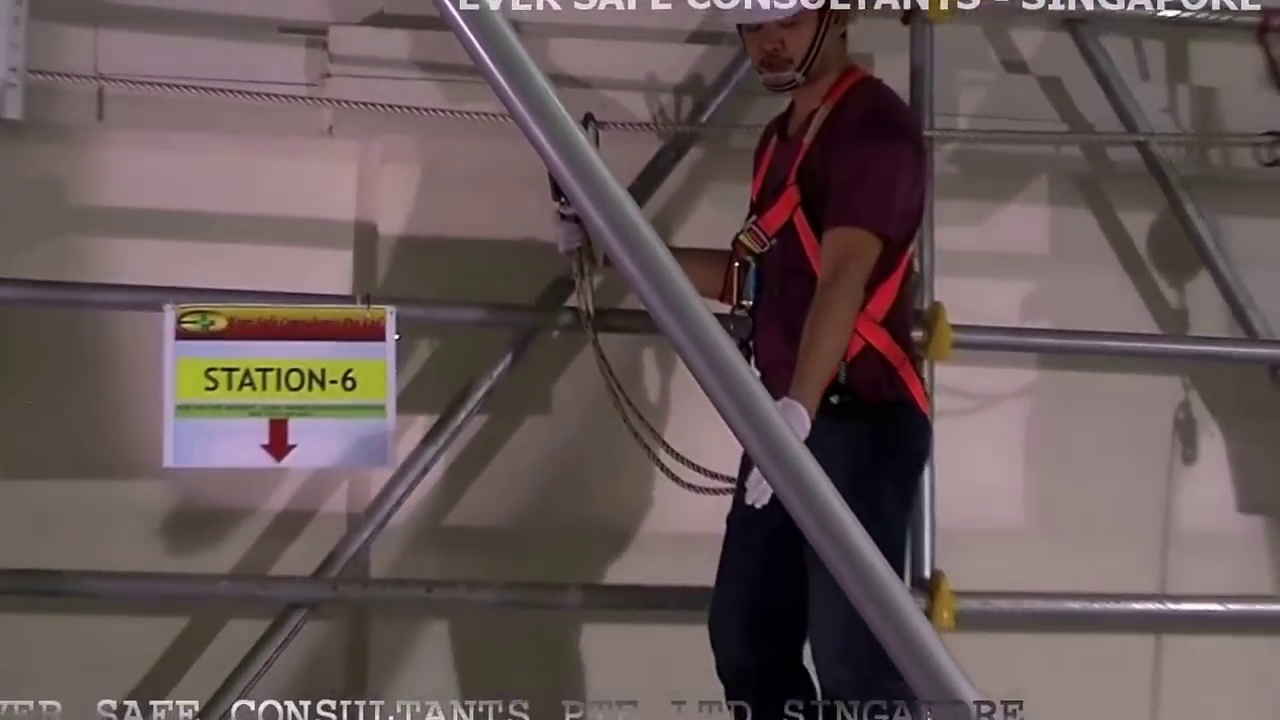harness: (753, 117, 811, 344)
leash: (591, 334, 683, 484)
